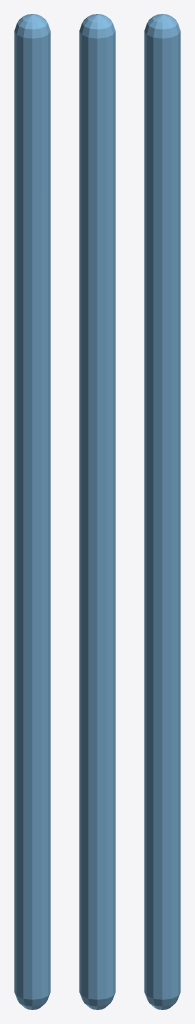
The model's file is Thermometer.fbx.
3 renders of one model, left to right at view 1: azimuth 30°, elevation 25°; view 2: azimuth 150°, elevation 25°; view 3: azimuth 330°, elevation 25°, orthographic.
Visible parts, largest first — view 1: Thermometer; view 2: Thermometer; view 3: Thermometer.
Boxes of the visible parts, x1,y1,x2,y2 form: Thermometer: (14,14,50,1009); Thermometer: (79,14,115,1009); Thermometer: (144,14,180,1009).
Size of the model in its own units: 3.3 by 99.73 by 3.3.
